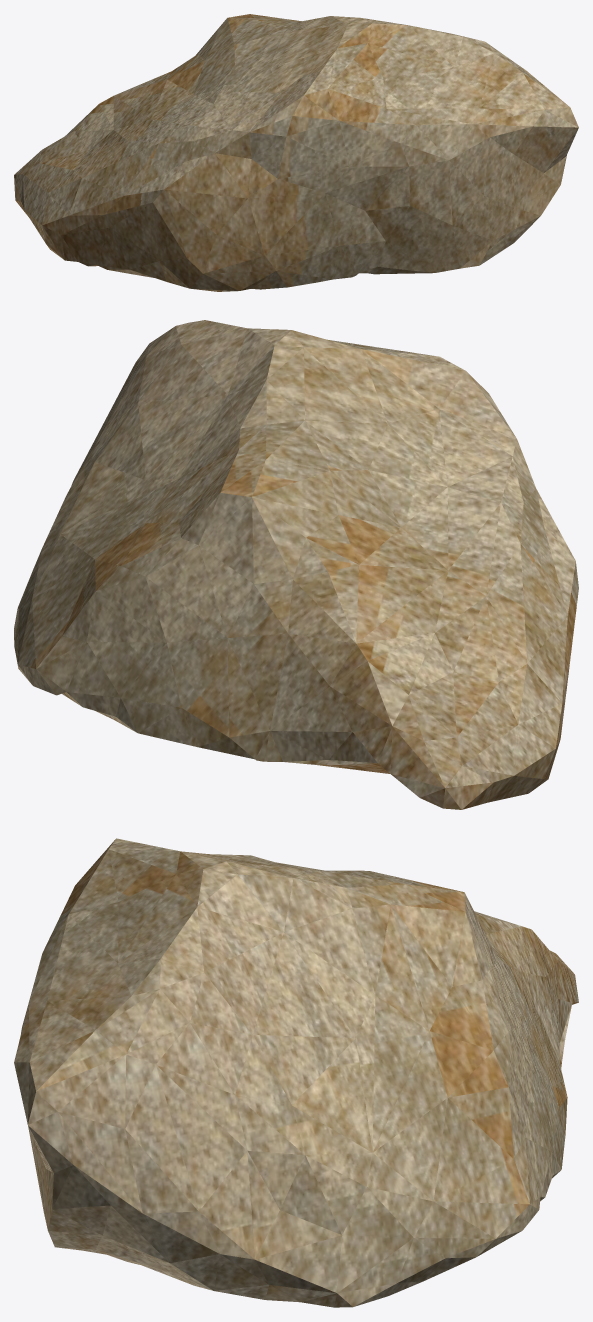
The model's file is yellow rock.obj.
3 views of the same model, one above another, from view 1: azimuth 30°, elevation 25°; view 2: azimuth 150°, elevation 25°; view 3: azimuth 270°, elevation 25° (orthographic). The views are drawn at different scales.
Parts seen in each view (by area): view 1: Mesh1 skpF1 Model; view 2: Mesh1 skpF1 Model; view 3: Mesh1 skpF1 Model.
Part boxes in pixels (left/top/right/bottom): Mesh1 skpF1 Model: left=14, top=14, right=578, bottom=291; Mesh1 skpF1 Model: left=14, top=320, right=578, bottom=809; Mesh1 skpF1 Model: left=14, top=838, right=578, bottom=1307.
Size of the model in its own units: 964 by 488 by 743.
